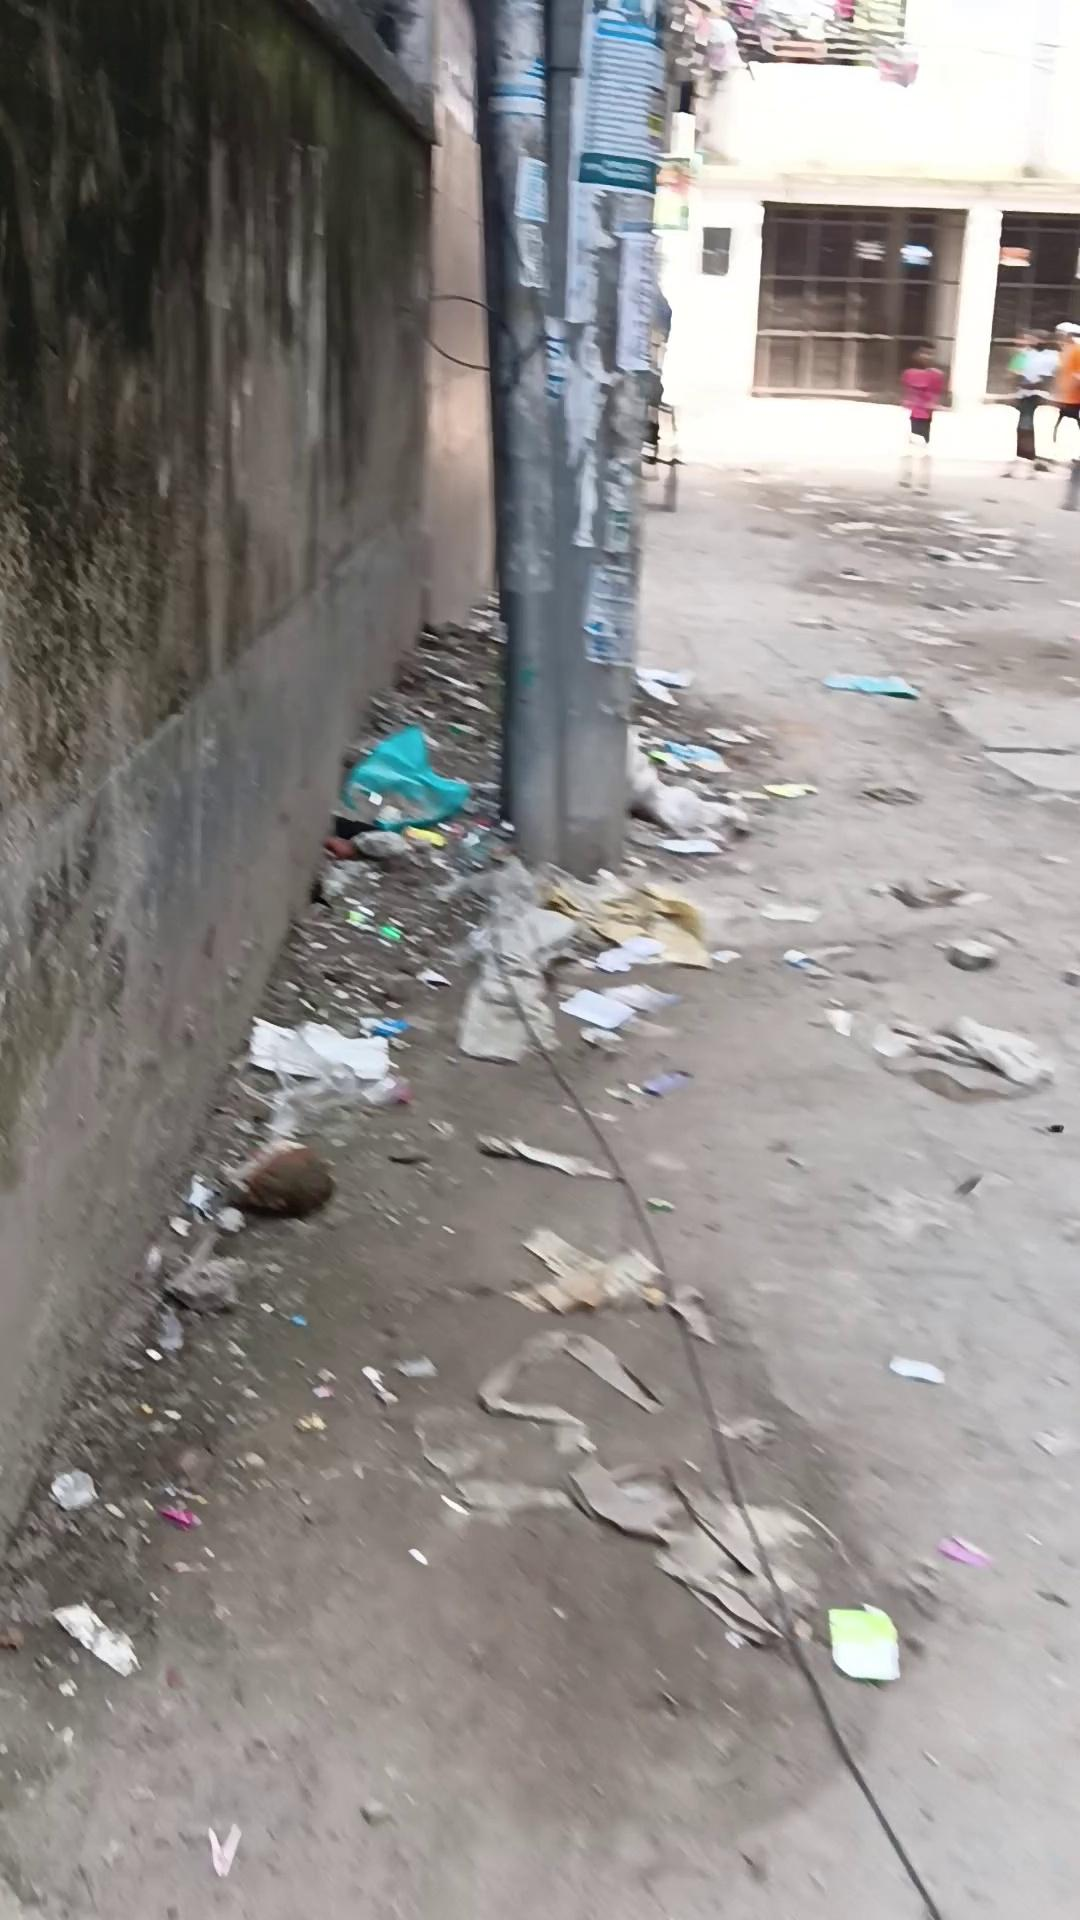Broken-road: (3, 436, 1077, 1916)
Muddy road: (1000, 327, 1060, 477), (1051, 320, 1079, 512), (899, 342, 945, 444)
Obstacle: (471, 1, 671, 880)
Pothole: (636, 287, 684, 512)
